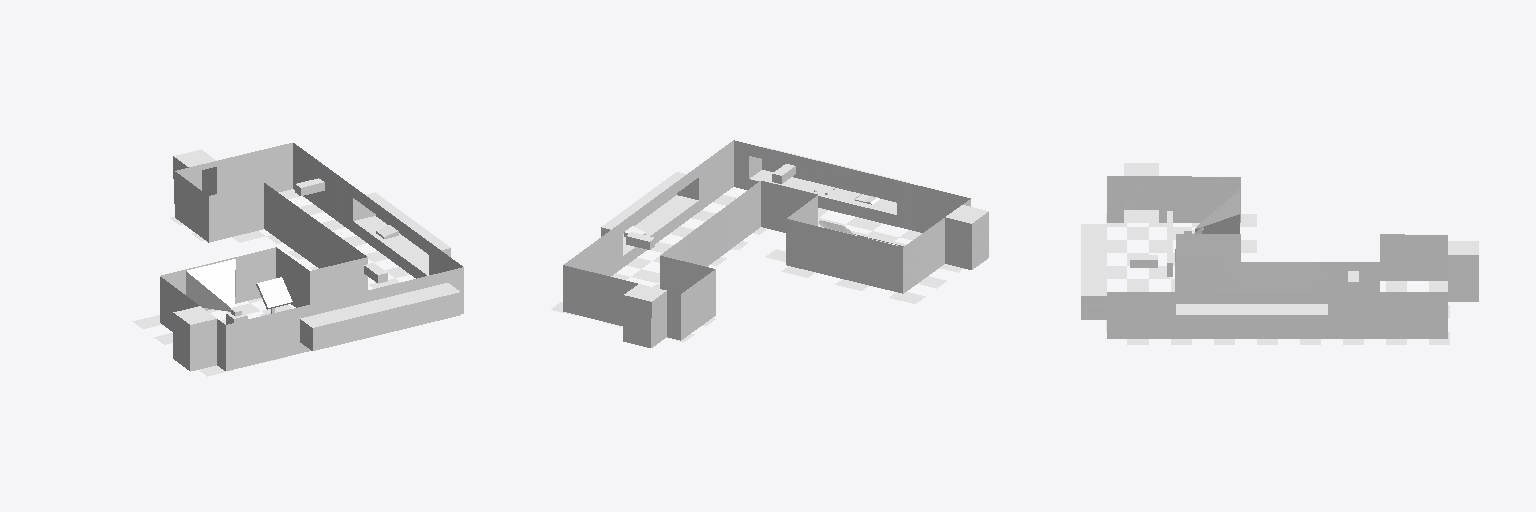
Rendered from _GAL.obj.
The picture shows the model from 3 angles: view 1: azimuth 30°, elevation 25°; view 2: azimuth 150°, elevation 25°; view 3: azimuth 270°, elevation 25°; orthographic projection.
Visible parts, largest first — view 1: _GAL; view 2: _GAL; view 3: _GAL.
Part boxes in pixels (x1,y1,x2,y2): _GAL: (132, 143, 463, 376); _GAL: (551, 140, 989, 347); _GAL: (1081, 163, 1478, 344).
Bounding box in the file's own units: 193 × 30.69 × 232.